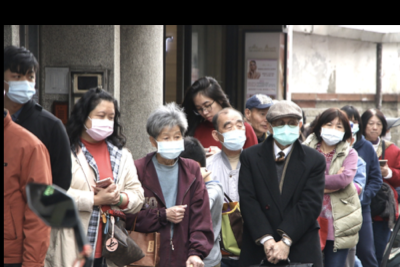with_mask: (5, 69, 36, 106), (86, 109, 115, 143), (155, 129, 184, 161), (221, 117, 246, 152), (271, 119, 300, 146), (319, 121, 345, 147), (347, 117, 360, 137)
without_mask: (192, 99, 219, 123), (362, 117, 384, 141), (253, 107, 269, 135)
